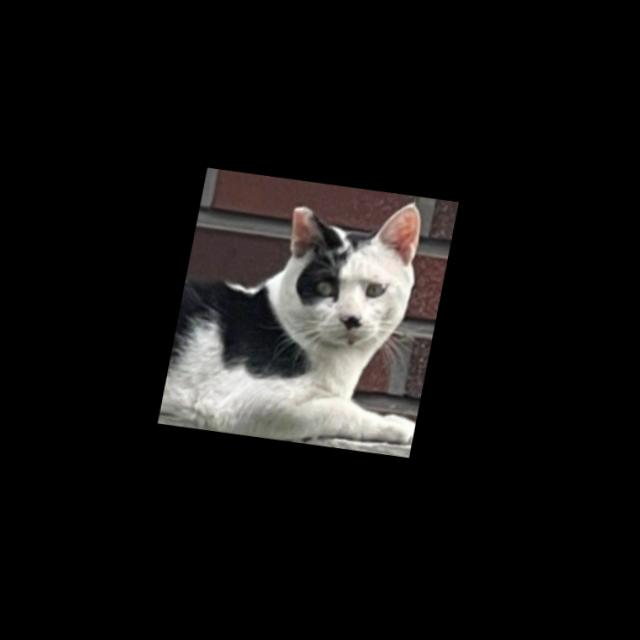animals: (267, 185, 431, 360)
